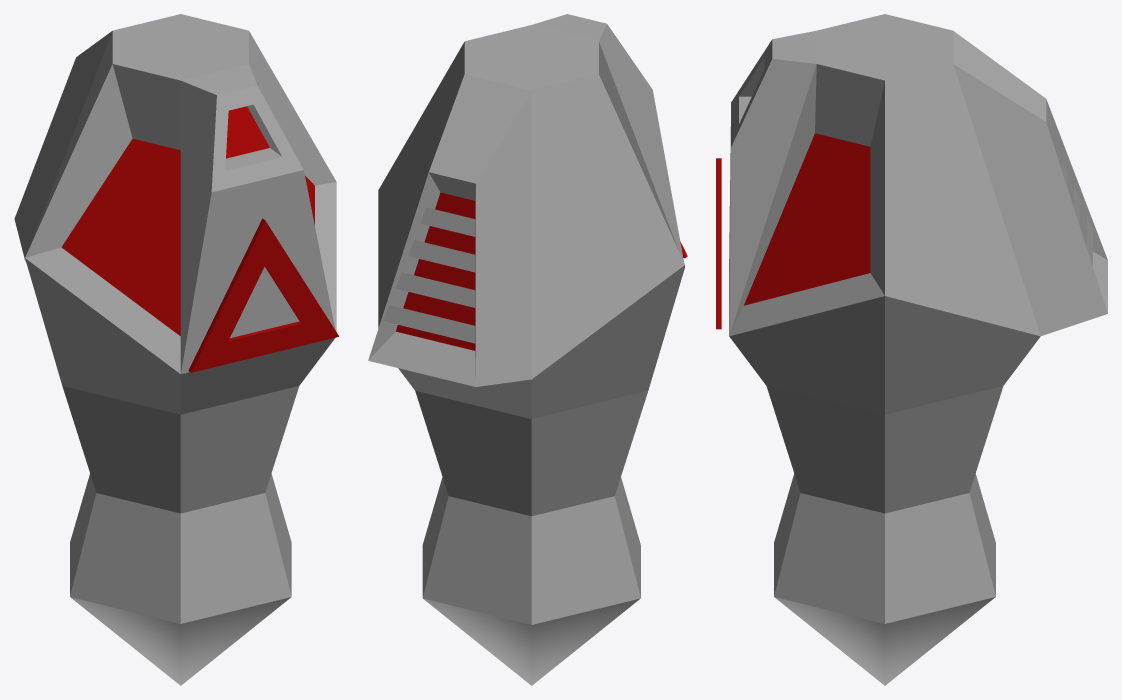
The model's file is EnemyRed.fbx.
3 renders of one model, left to right at view 1: azimuth 30°, elevation 25°; view 2: azimuth 150°, elevation 25°; view 3: azimuth 270°, elevation 25°, orthographic.
Visible parts, largest first — view 1: pCylinder7; view 2: pCylinder7; view 3: pCylinder7.
Part boxes in pixels (box(x1,y1,x2,y2)): pCylinder7: box(14, 14, 338, 685); pCylinder7: box(368, 14, 687, 685); pCylinder7: box(716, 14, 1107, 685).
Size of the model in its own units: 5.62 by 11 by 6.12.
